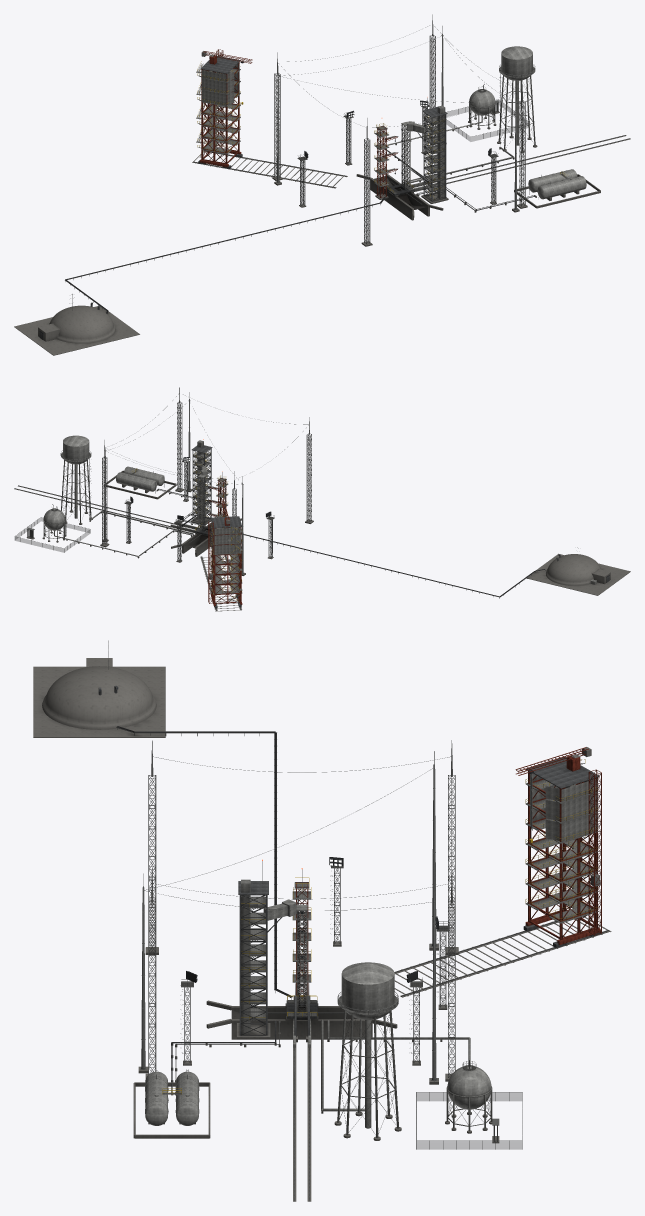
Rendered from launch.glb.
The picture shows the model from 3 angles, top to bottom: view 1: azimuth 30°, elevation 25°; view 2: azimuth 150°, elevation 25°; view 3: azimuth 270°, elevation 25°; orthographic projection. The views are drawn at different scales.
Visible parts, largest first — view 1: launchModern, launchClassic, launchCommon, gantry; view 2: launchModern, launchCommon, launchClassic, gantry; view 3: launchModern, launchClassic, gantry, launchCommon.
Part boxes in pixels (left/top/right/bottom): launchModern: left=272, top=14, right=630, bottom=246; launchClassic: left=14, top=26, right=519, bottom=355; launchCommon: left=297, top=84, right=600, bottom=220; gantry: left=192, top=49, right=347, bottom=188; launchModern: left=14, top=387, right=313, bottom=577; launchCommon: left=14, top=457, right=274, bottom=562; launchClassic: left=102, top=392, right=630, bottom=598; gantry: left=200, top=501, right=242, bottom=611; launchModern: left=145, top=740, right=458, bottom=1201; launchClassic: left=33, top=640, right=438, bottom=1084; gantry: left=394, top=747, right=611, bottom=997; launchCommon: left=133, top=857, right=522, bottom=1149.
Size of the model in its own units: 287 by 57.4 by 131.
18 materials, 11 textured.
